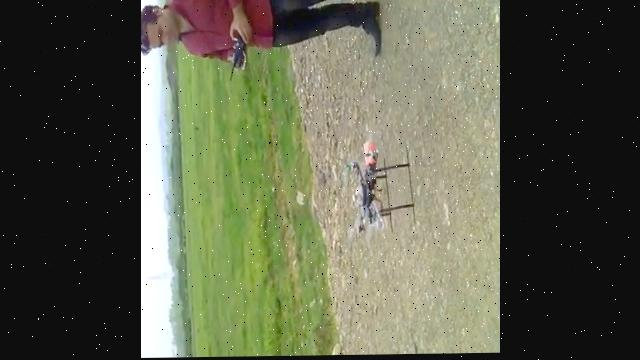drone: (343, 140, 415, 245)
